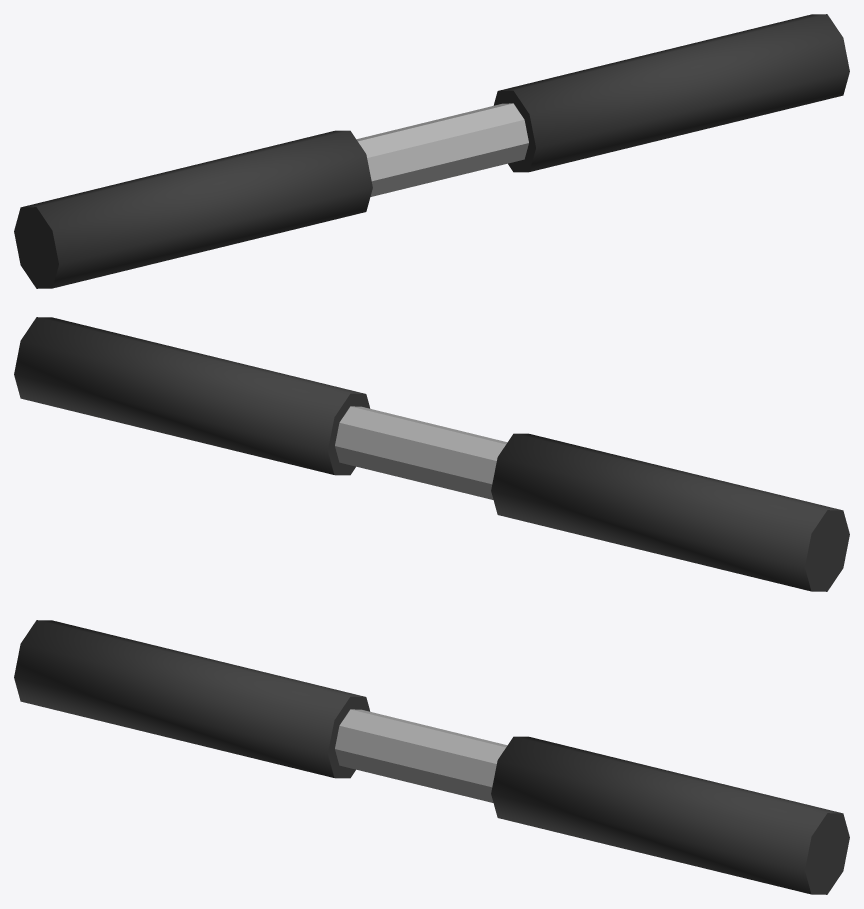
Rendered from Stationary_Rowing_Machine_A.fbx.
3 renders of one model, top to bottom at view 1: azimuth 30°, elevation 25°; view 2: azimuth 150°, elevation 25°; view 3: azimuth 330°, elevation 25°, orthographic.
Visible parts, largest first — view 1: Stationary_Rowing_Machine_A; view 2: Stationary_Rowing_Machine_A; view 3: Stationary_Rowing_Machine_A.
Part boxes in pixels (<box>): Stationary_Rowing_Machine_A: <box>14,14,849,288</box>; Stationary_Rowing_Machine_A: <box>14,317,849,591</box>; Stationary_Rowing_Machine_A: <box>14,620,849,894</box>.
Size of the model in its own units: 67.25 by 6.64 by 6.64.
